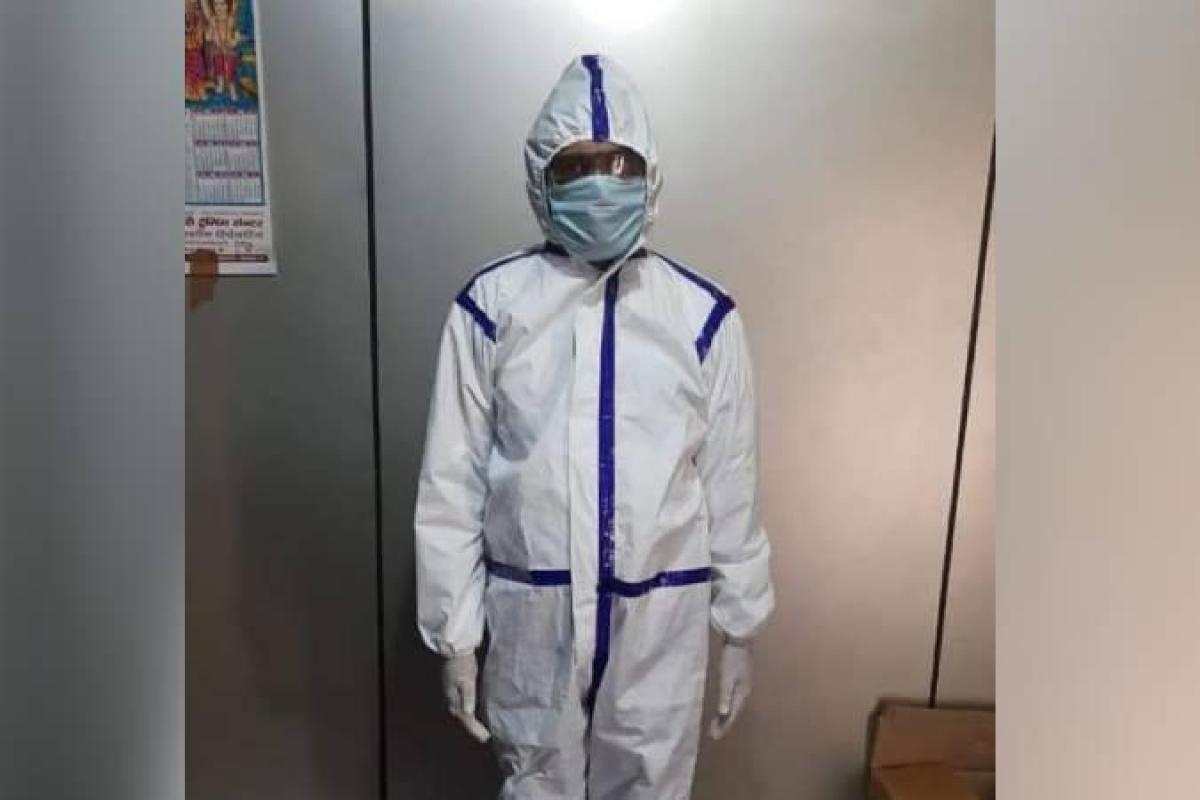Gloves: (438, 657, 493, 744), (708, 638, 754, 740)
No glasses: (539, 137, 653, 187)
